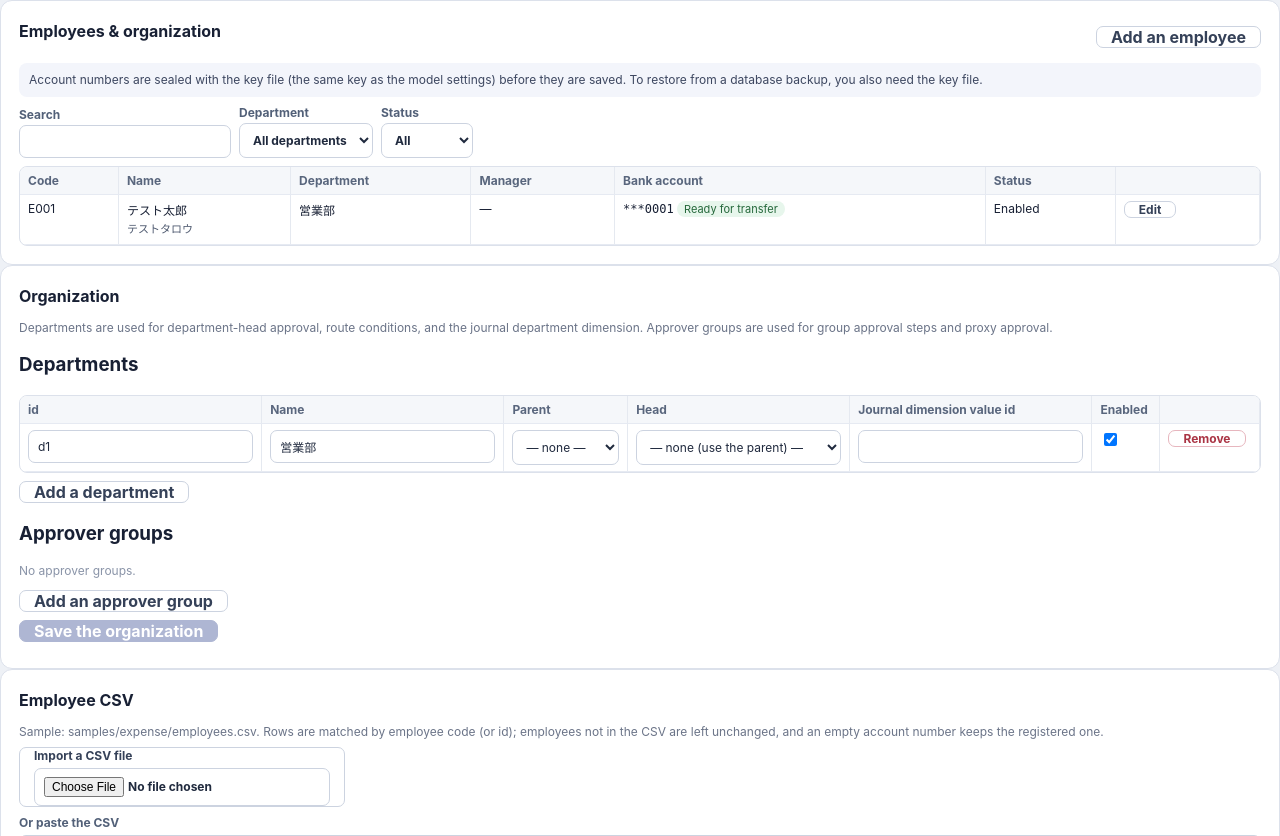
it: EmployeesLedger › 異常: 名義カナの 400 は変換後の形と直す文字・バイト数を平易に出してその欄へフォーカスし、口座番号の 400 は入力欄を開いてフォーカスする
This screenshot has width=1280, height=836.
Step 1. Click the button with aria-label "Edit テスト太郎" → coordinates (1150, 210), box [1124,201,1176,218]
(page scrolled)
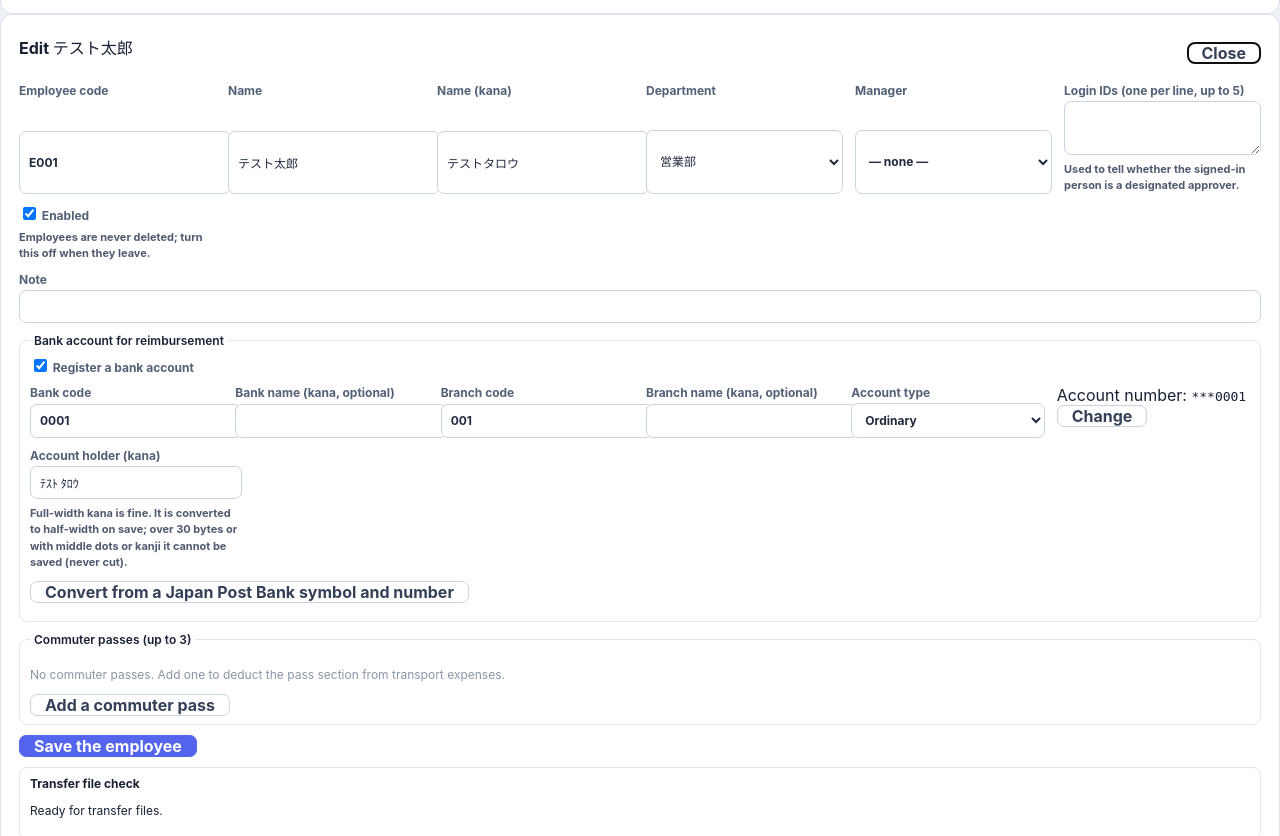
Step 2. Click the button "Save the employee" → coordinates (108, 746), box [19,734,197,756]
(page scrolled)
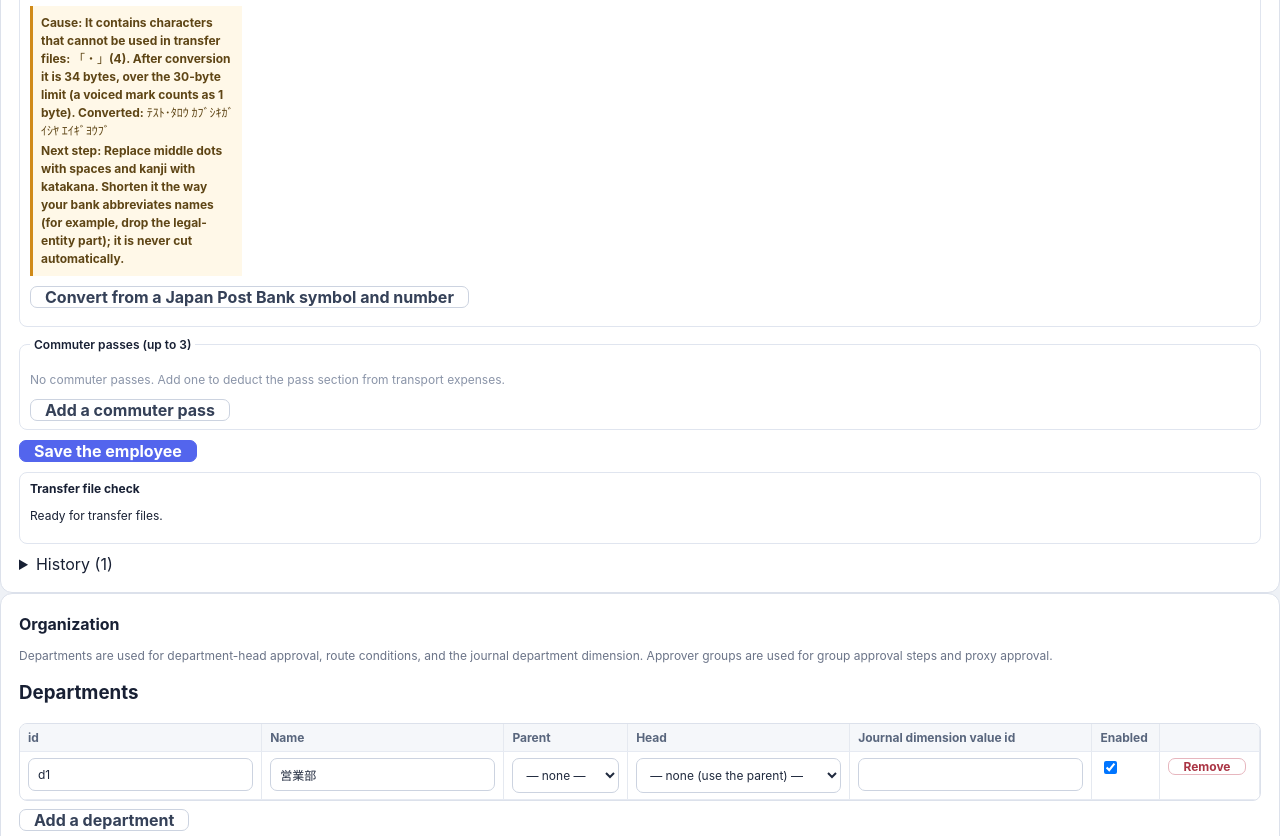
Expected: the text "34 bytes, over the 30-byte limit" shows "「・」(4)", [41,14,234,138]
Expected: the text "34 bytes, over the 30-byte limit" shows "Converted: ﾃｽﾄ･ﾀﾛｳ", [41,14,234,138]
Expected: the text "never cut automatically" is shown, [41,142,222,266]
Step 3. Click the button "Save the employee" → coordinates (108, 450), box [19,440,197,462]
(page scrolled)
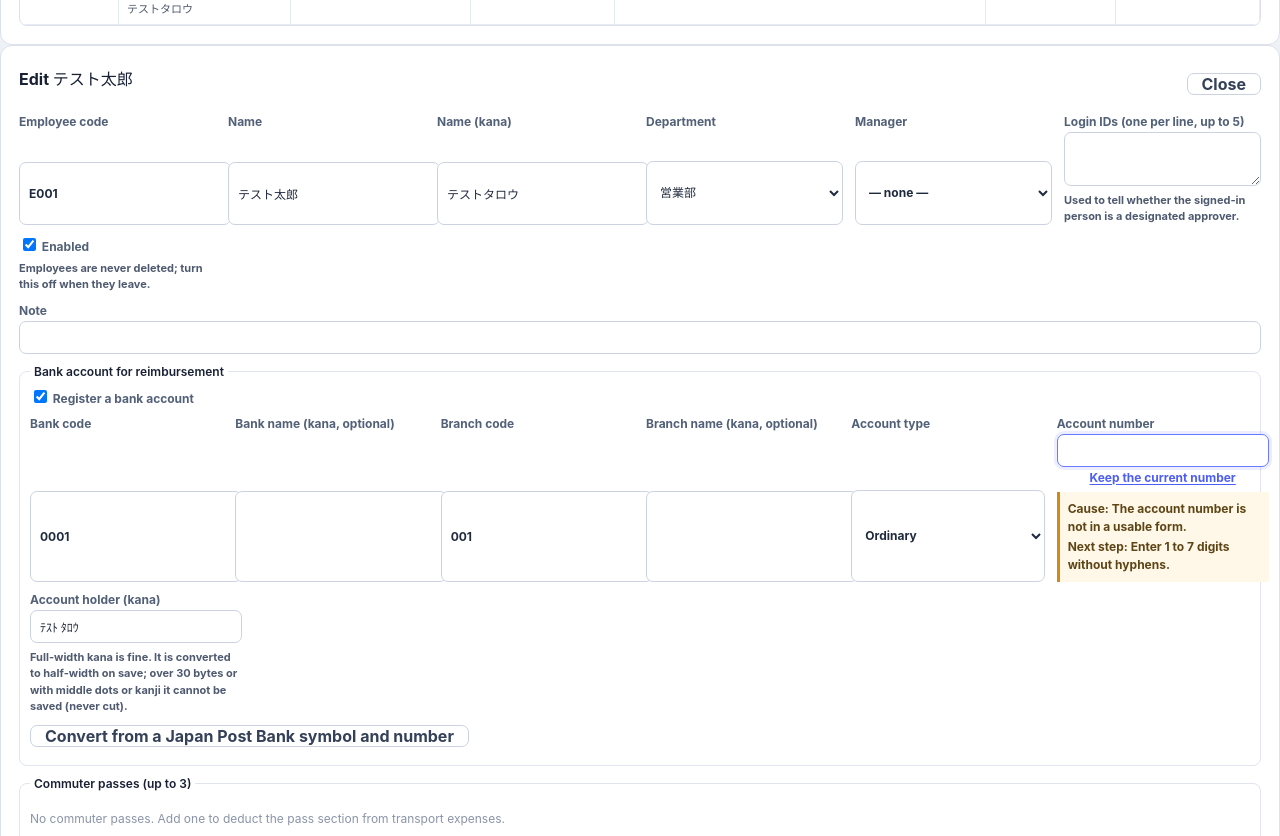
Expected: the text "Next step: Enter 1 to 7 digits without hyphens." is shown, [1068,538,1230,572]
